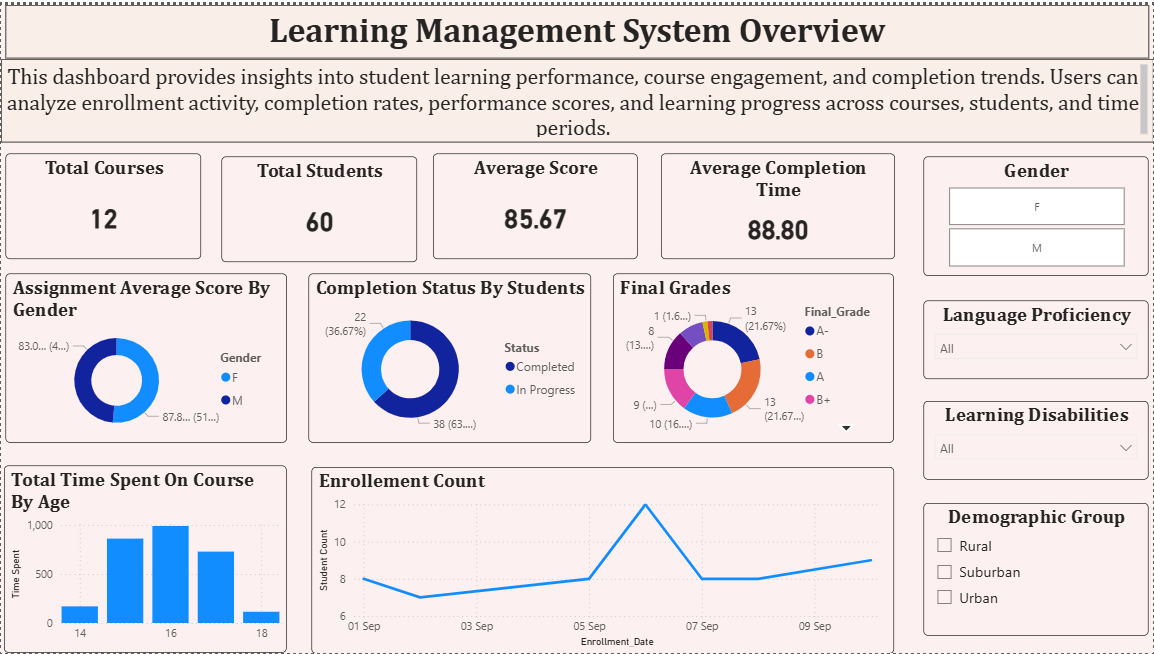

Layout of this report page (visuals, bound fields, positions):
{"tool":"powerbi","page":{"name":"Page 1","canvas":[1280,720],"ordinal":0},"visuals":[{"type":"textbox","box":[5,0,1270.5,59.6],"z":0},{"type":"textbox","box":[0,59.6,1280.5,92.8],"z":2},{"type":"card","title":"Total Courses","fields":{"Values":["Count(fact_student_performance.Course_ID)"]},"box":[5,165,217.5,117.5],"z":3},{"type":"card","title":"Total Students","fields":{"Values":["Count(dim_student.Student_ID)"]},"box":[245,167.5,217.5,117.5],"z":4},{"type":"card","title":"Average Score","fields":{"Values":["Avg(fact_student_performance.Assignment_Average_Score)"]},"box":[480,165,227.5,117.5],"z":5},{"type":"card","title":"Average Completion Time","fields":{"Values":["Avg(fact_student_performance.Completion_Time_Days)"]},"box":[732.5,165,260,117.5],"z":6},{"type":"donutChart","title":"Assignment Average Score By Gender","fields":{"Y":["Avg(fact_student_performance.Assignment_Average_Score)"],"Category":["dim_student.Gender"]},"box":[4.7,298.8,312.9,188.2],"z":7},{"type":"donutChart","title":"Completion Status By Students","fields":{"Y":["Avg(fact_student_performance.Assignment_Average_Score)"],"Category":["fact_student_performance.Status"]},"box":[342,298,314,188],"z":8},{"type":"donutChart","title":"Final Grades","fields":{"Category":["fact_student_performance.Final_Grade"],"Y":["CountNonNull(fact_student_performance.Student_ID)"]},"box":[680,298,312,188],"z":9},{"type":"clusteredColumnChart","title":"Total Time Spent On Course By Age","fields":{"Category":["dim_student.Age"],"Y":["Sum(fact_student_performance.Time_Spent_on_Course_hrs)"]},"box":[4,512,314,208],"z":10},{"type":"lineChart","title":"Enrollement Count","fields":{"Y":["CountNonNull(dim_student.Student_ID)"],"Category":["fact_student_performance.Enrollment_Date"]},"box":[345,512.5,647.5,207.5],"z":11},{"type":"slicer","title":"Gender","fields":{"Values":["dim_student.Gender"]},"box":[1025,167.5,250,132.5],"z":12},{"type":"slicer","title":"Language Proficiency","fields":{"Values":["dim_student.Language_Proficiency"]},"box":[1025,327.5,250,87.5],"z":13},{"type":"slicer","title":"Learning Disabilities","fields":{"Values":["dim_student.Learning_Disabilities"]},"box":[1025,440,250,87.5],"z":14},{"type":"slicer","title":"Demographic Group","fields":{"Values":["dim_student.Demographic_Group"]},"box":[1025,552.5,250,147.5],"z":15}]}

Visuals, with their boxes in screenshot pixels (x1, y1, x2, y2), scaled from the page's 1280x720 canvas onto the 1154x654 screenshot:
textbox: bbox=(5, 0, 1150, 54)
textbox: bbox=(0, 54, 1153, 138)
"Total Courses" card: bbox=(5, 150, 201, 257)
"Total Students" card: bbox=(221, 152, 417, 259)
"Average Score" card: bbox=(433, 150, 638, 257)
"Average Completion Time" card: bbox=(660, 150, 895, 257)
"Assignment Average Score By Gender" donutChart: bbox=(4, 271, 286, 442)
"Completion Status By Students" donutChart: bbox=(308, 271, 591, 441)
"Final Grades" donutChart: bbox=(613, 271, 894, 441)
"Total Time Spent On Course By Age" clusteredColumnChart: bbox=(4, 465, 287, 653)
"Enrollement Count" lineChart: bbox=(311, 466, 895, 653)
"Gender" slicer: bbox=(924, 152, 1149, 272)
"Language Proficiency" slicer: bbox=(924, 297, 1149, 377)
"Learning Disabilities" slicer: bbox=(924, 400, 1149, 479)
"Demographic Group" slicer: bbox=(924, 502, 1149, 636)
